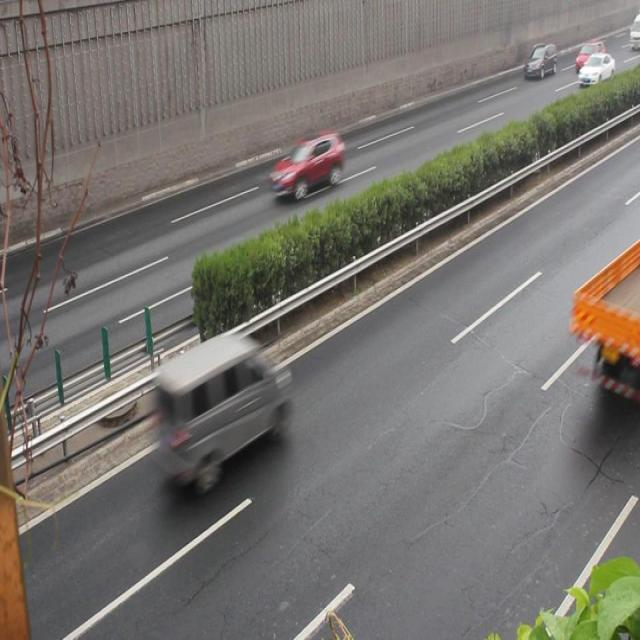car: (269, 128, 343, 197), (521, 42, 555, 78)
